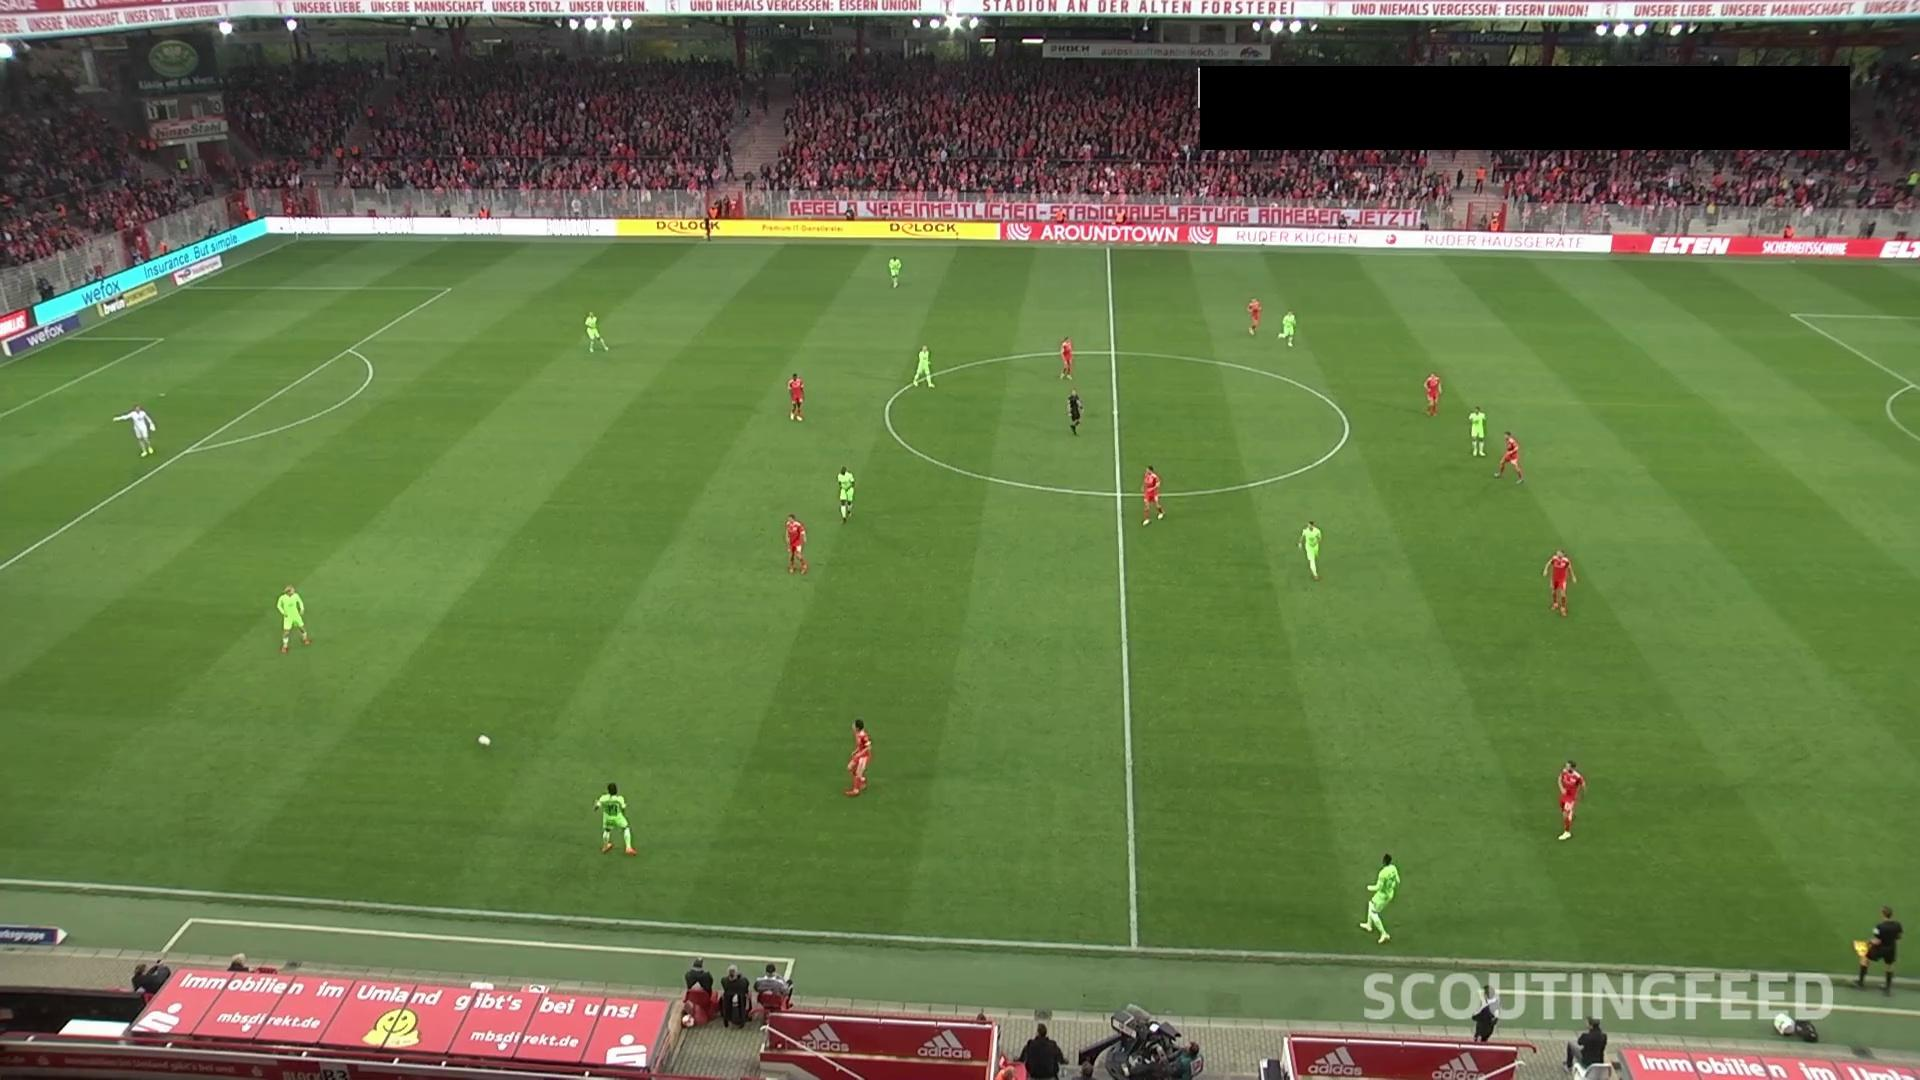Location-of-ball: (467, 720, 502, 752)
